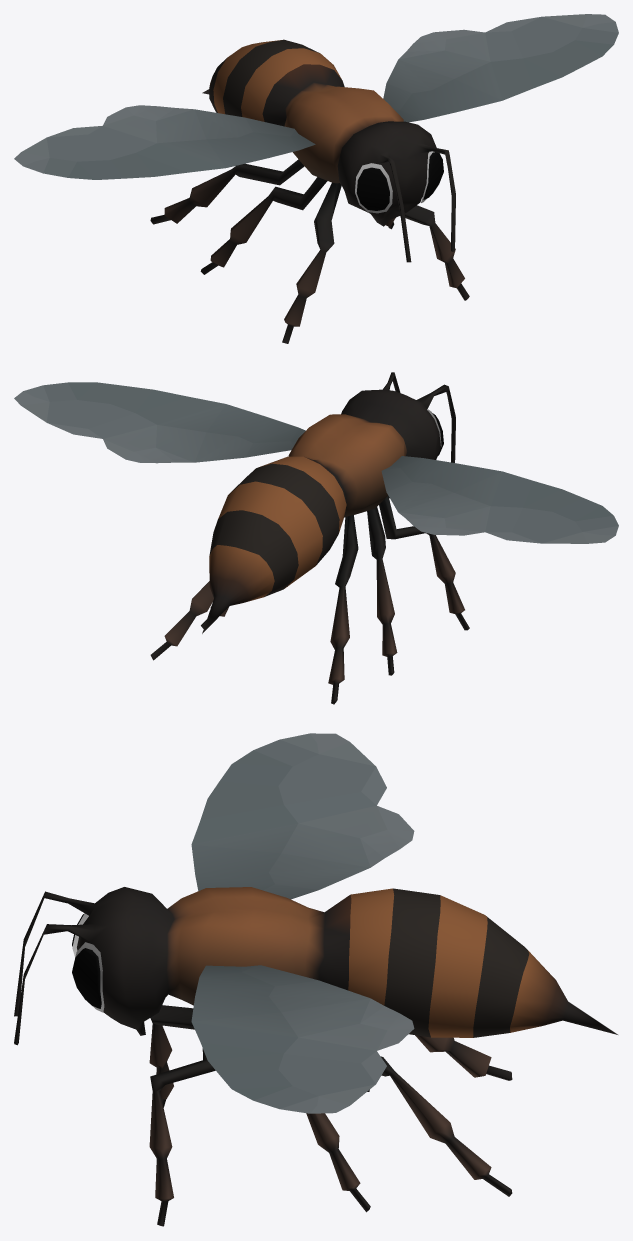
The model's file is animals-flyinginsects-bee_v1.glb.
The picture shows the model from 3 angles, top to bottom: view 1: azimuth 30°, elevation 25°; view 2: azimuth 150°, elevation 25°; view 3: azimuth 270°, elevation 25°; orthographic projection. The views are drawn at different scales.
Visible parts, largest first — view 1: Bee.001; view 2: Bee.001; view 3: Bee.001.
Part boxes in pixels (bbox=[...]): Bee.001: bbox=[14, 14, 618, 343]; Bee.001: bbox=[14, 372, 618, 704]; Bee.001: bbox=[14, 733, 617, 1226].
Size of the model in its own units: 0.3397 by 0.1141 by 0.2283.
